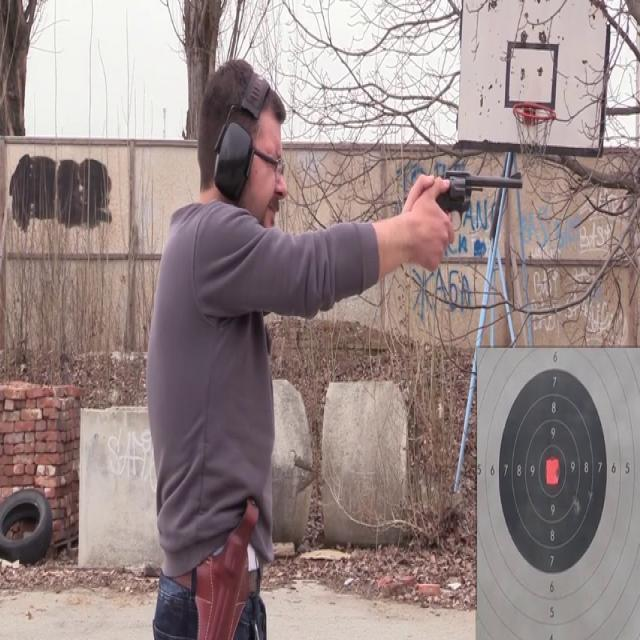gun-knife-thesis - v11 Yolov5 augmented: (404, 155, 522, 273)
